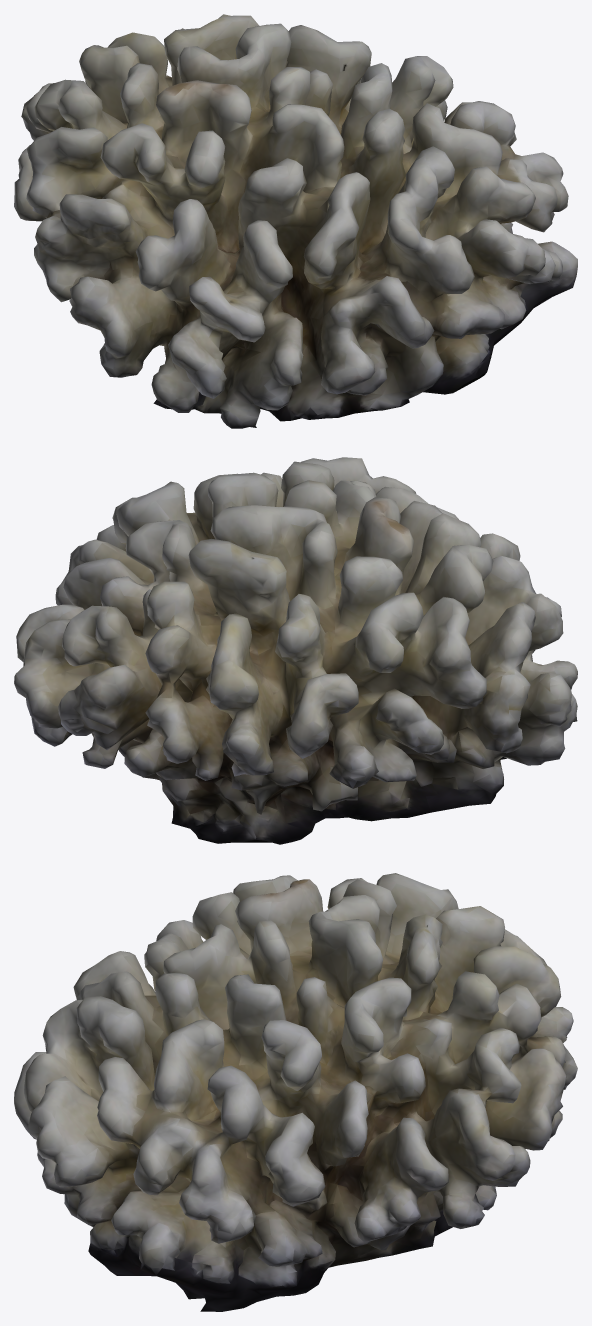
Rendered from CASIZ098672PocilloporaVerrucosa_3pc.obj.
The picture shows the model from 3 angles, top to bottom: view 1: azimuth 30°, elevation 25°; view 2: azimuth 150°, elevation 25°; view 3: azimuth 270°, elevation 25°; orthographic projection. The views are drawn at different scales.
Parts seen in each view (by area): view 1: CASIZ098672PocilloporaVerrucosa; view 2: CASIZ098672PocilloporaVerrucosa; view 3: CASIZ098672PocilloporaVerrucosa.
Boxes of the visible parts, box(x1,y1,x2,y2) form: CASIZ098672PocilloporaVerrucosa: box(14, 14, 577, 428); CASIZ098672PocilloporaVerrucosa: box(14, 457, 577, 844); CASIZ098672PocilloporaVerrucosa: box(14, 873, 577, 1311).
Size of the model in its own units: 21.98 by 12.85 by 21.78.
